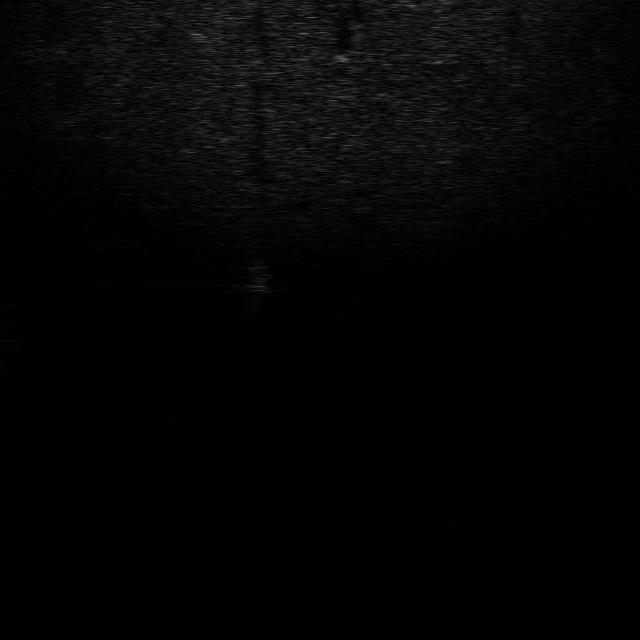human body: (235, 253, 279, 316)
